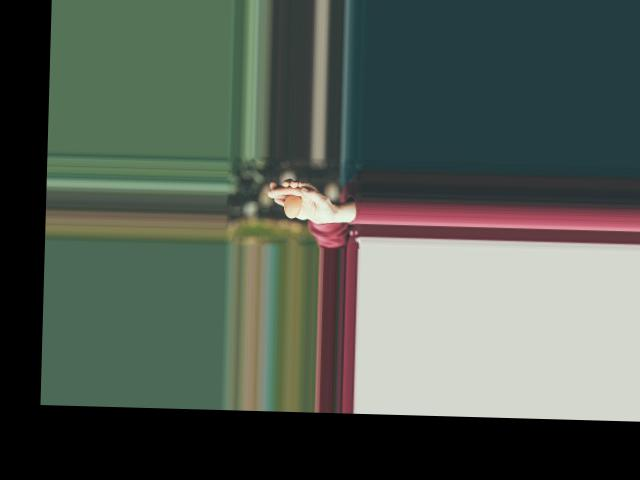egg: (284, 194, 302, 218)
